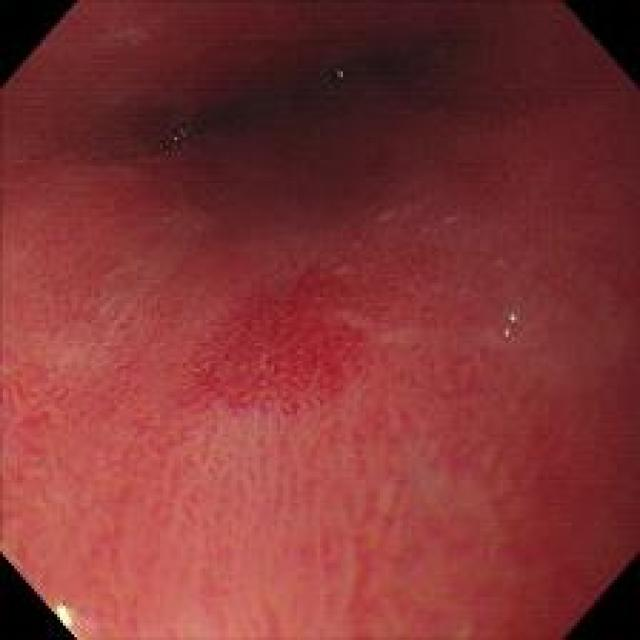color misalignment: (491, 306, 522, 342)
contrast: (122, 16, 455, 179)
specularity: (55, 594, 76, 629), (170, 130, 188, 144), (338, 69, 344, 79)
